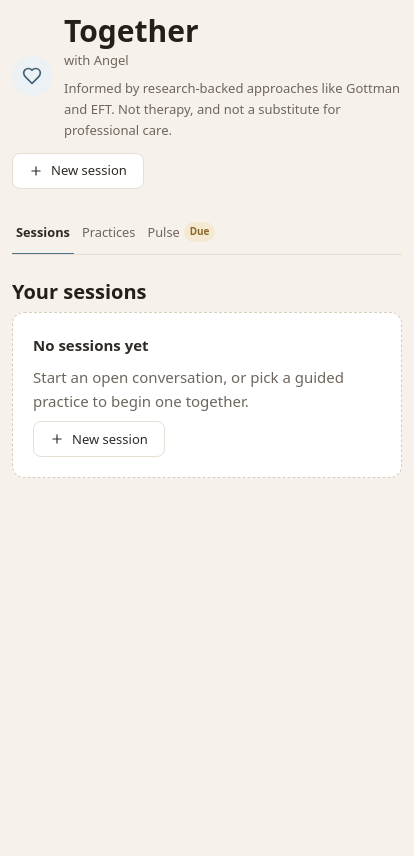
Test: Together home — tabbed IA (§3.2a) › shows exactly three tabs when Desire is locked, and hides the guided catalog behind Practices
This screenshot has width=414, height=856.
Expected: the tab "Sessions" is shown, [12,213,74,255]
Expected: the tab "Pulse Due" is shown, [144,213,220,255]
Click the tab "Practices": (109,234) [78,213,139,255]
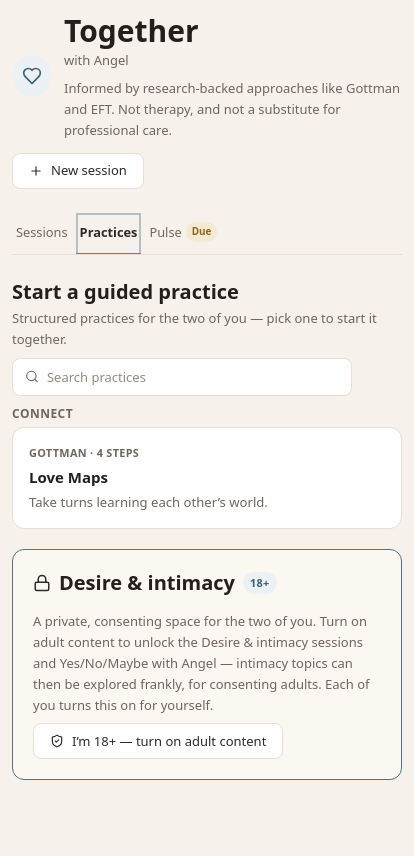
Expected: the text "Love Maps" is shown, [29,465,108,489]
